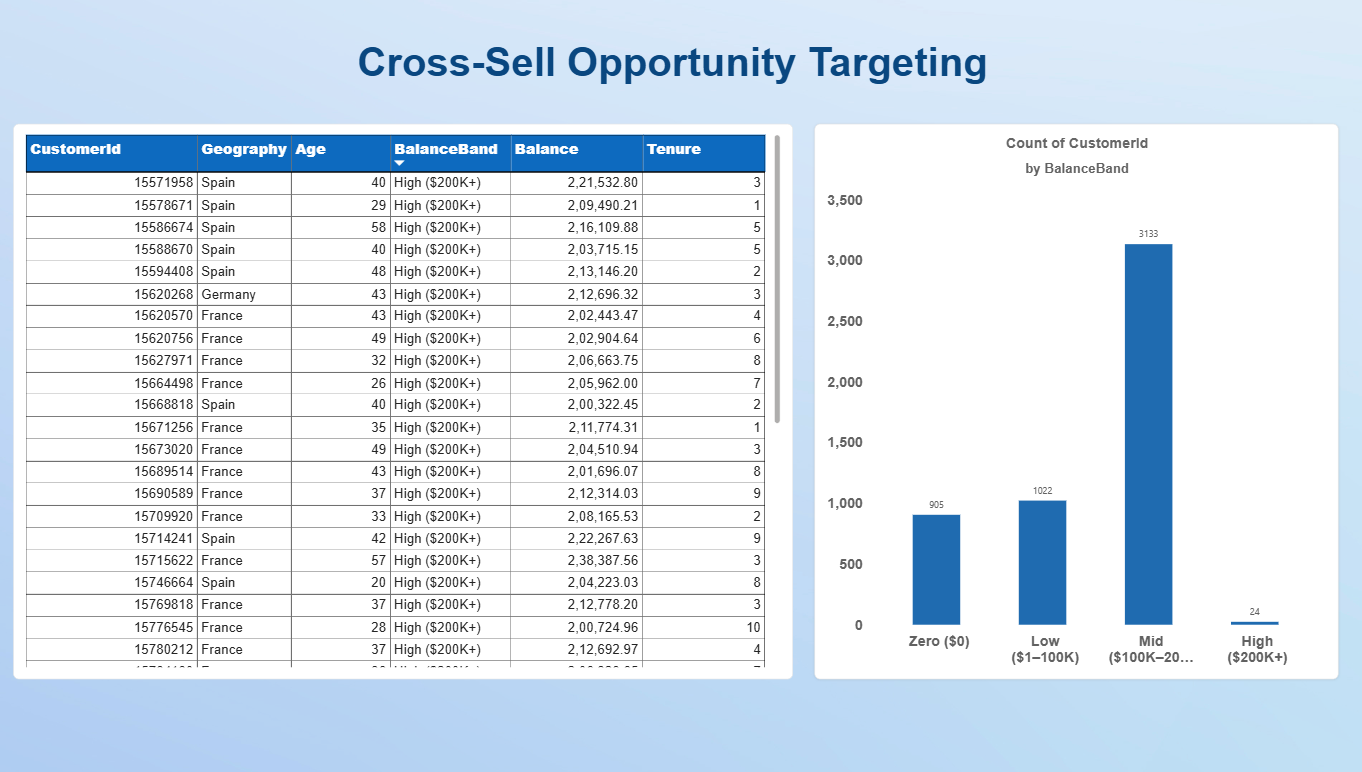

The page's visual inventory and layout, read from the dashboard file:
{"tool":"powerbi","page":{"name":"Cross-Sell Opportunity Targeting","canvas":[1920,1080],"ordinal":1},"visuals":[{"type":"textbox","box":[100,0,1686.4,147.5],"z":0},{"type":"tableEx","fields":{"Values":["bank_customers.CustomerId","bank_customers.Geography","bank_customers.Age","bank_customers.BalanceBand","bank_customers.Balance","bank_customers.Tenure"]},"box":[22.8,171.9,1087.7,775.4],"z":1000},{"type":"clusteredColumnChart","fields":{"Category":["bank_customers.BalanceBand"],"Y":["CountNonNull(bank_customers.CustomerId)"]},"box":[1140.4,171.9,731.6,775.4],"z":2000}]}

Visuals, with their boxes in screenshot pixels (x1, y1, x2, y2), scaled from the page's 1920x1080 canvas onto the 1362x772 screenshot:
textbox: pyautogui.locateOnScreen(71, 0, 1267, 105)
tableEx - bank_customers.CustomerId x bank_customers.Geography: pyautogui.locateOnScreen(16, 123, 788, 677)
clusteredColumnChart - bank_customers.BalanceBand x CountNonNull(bank_customers.CustomerId): pyautogui.locateOnScreen(809, 123, 1328, 677)
